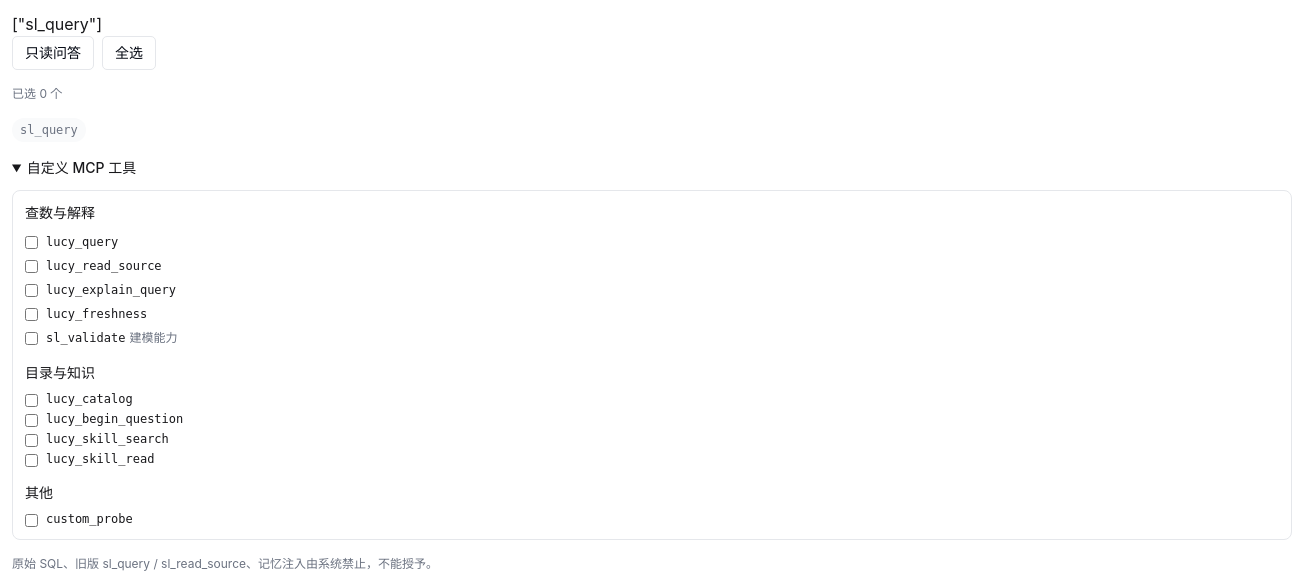
Test: RoleToolGrants › 全选 grants every visible tool and leaves denied tools out
The width and height of the screenshot is (1304, 588).
Click the button "全选": (129, 53) x1=102 y1=36 x2=156 y2=70
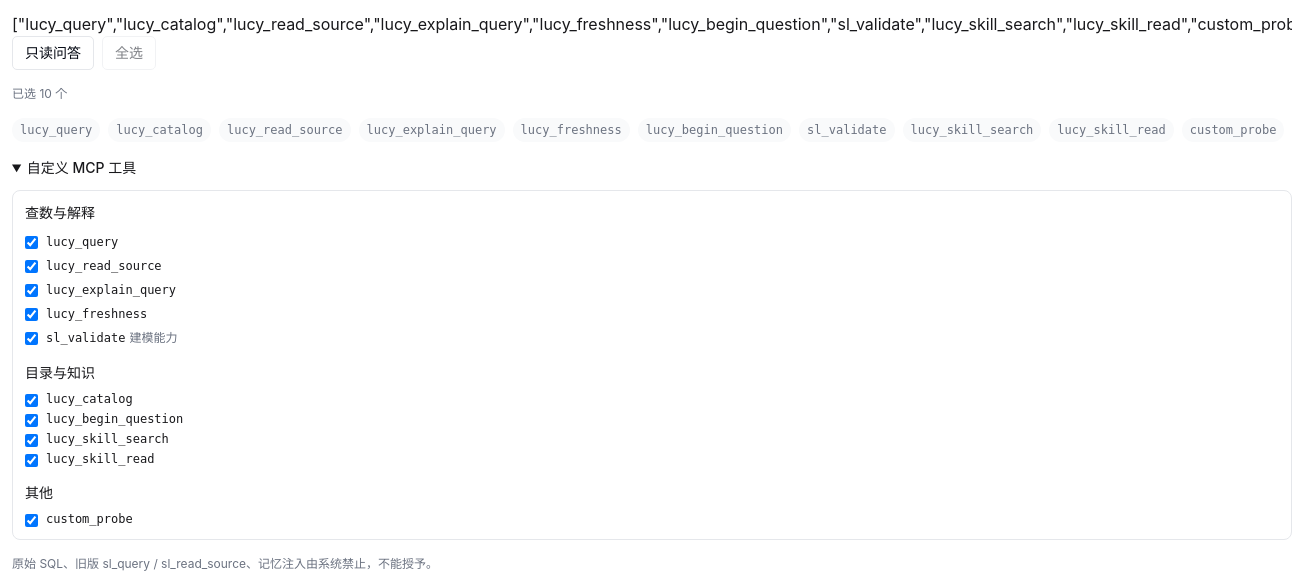
expect the text "sl_query" is not shown: met
expect the button "全选" is disabled: met, box x1=102 y1=36 x2=156 y2=70
